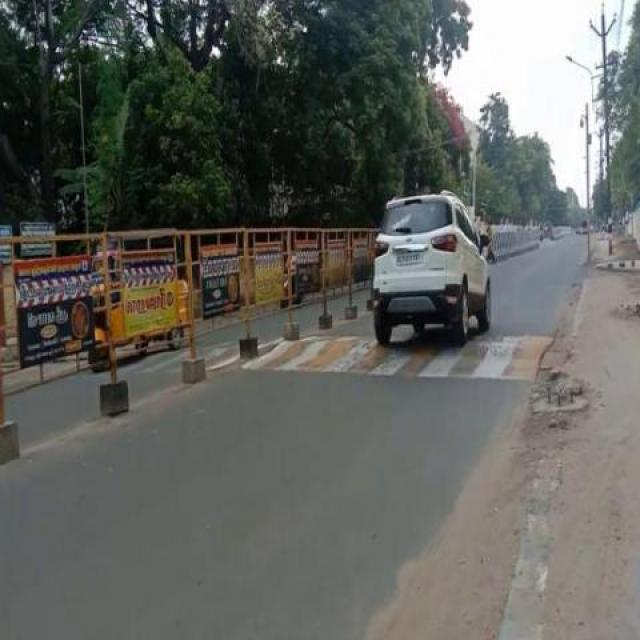Speed Bump: (258, 336, 374, 379), (466, 334, 554, 384), (389, 336, 452, 380), (118, 346, 181, 369), (205, 340, 239, 370)
